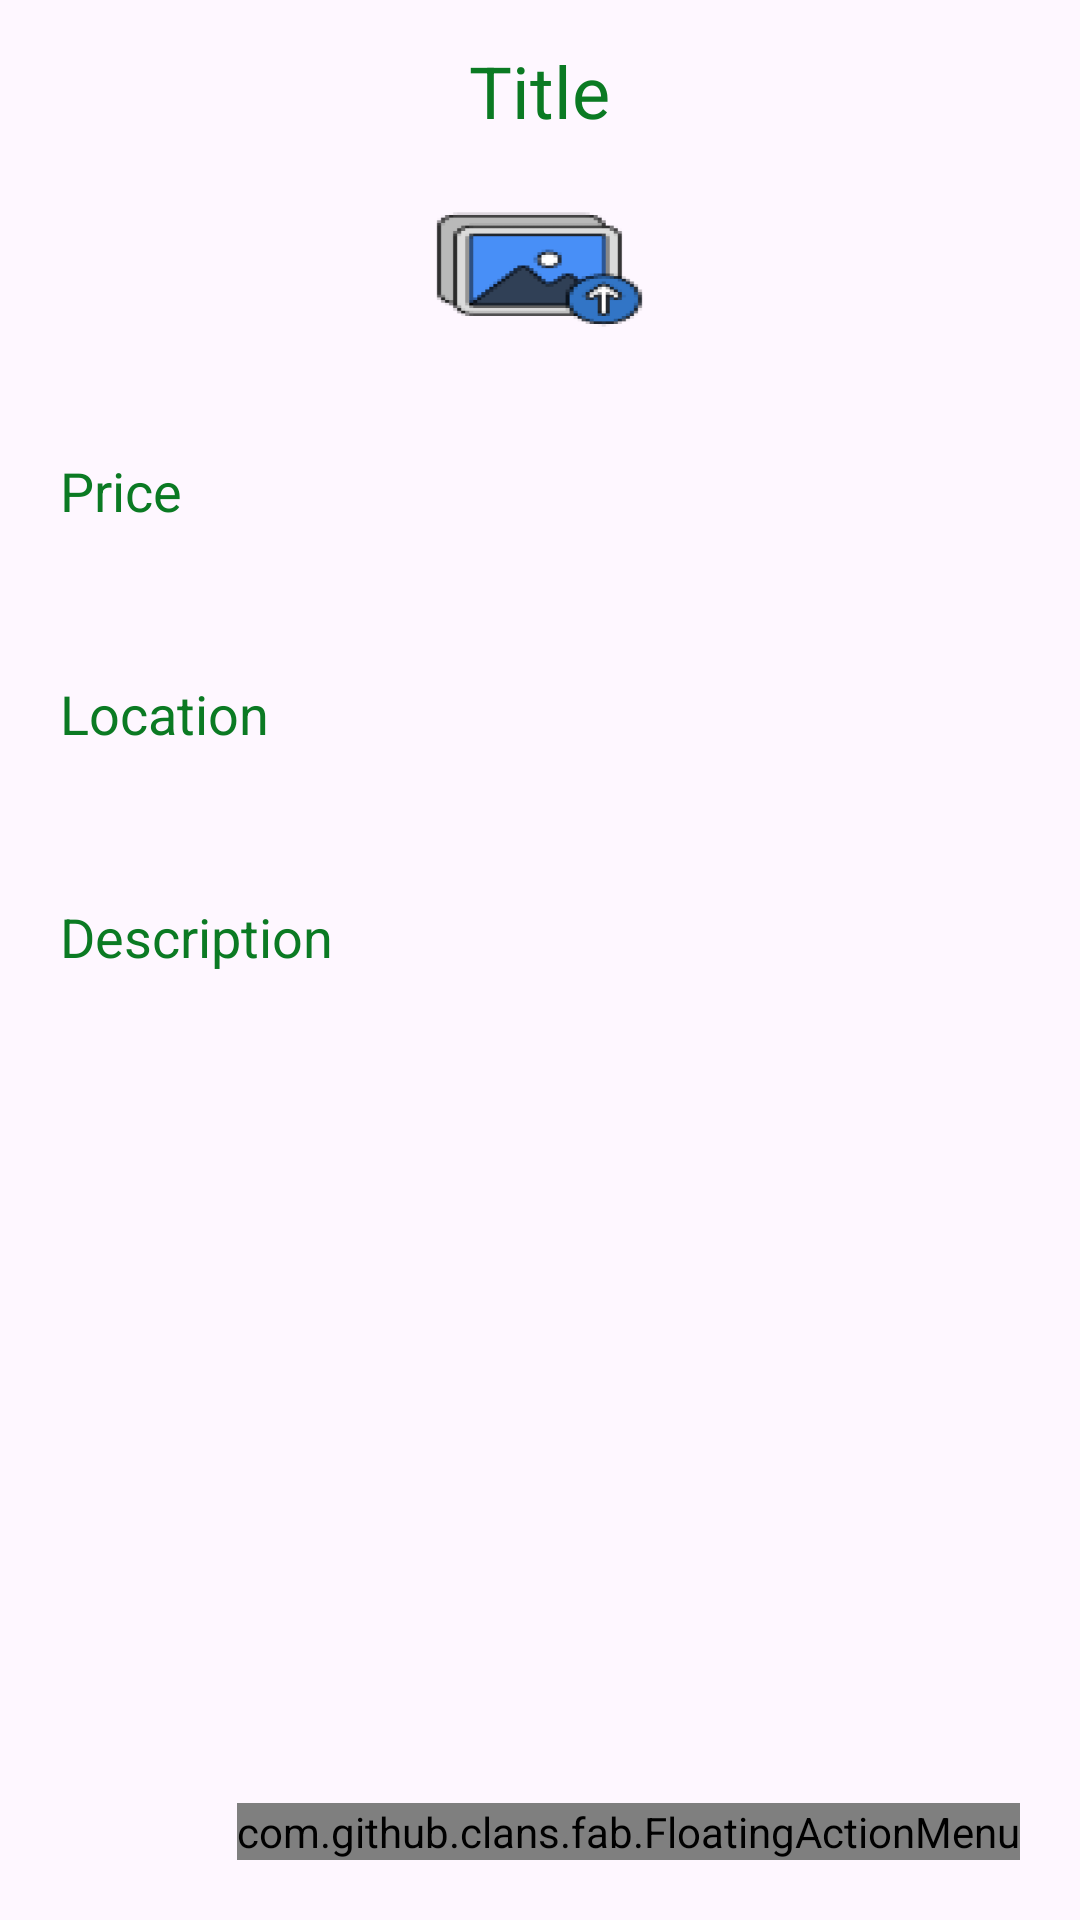

Screen size 1080px×1920px. Icon name, then its center in pixels as point (x, y):
uploadphoto: point (540, 268)
